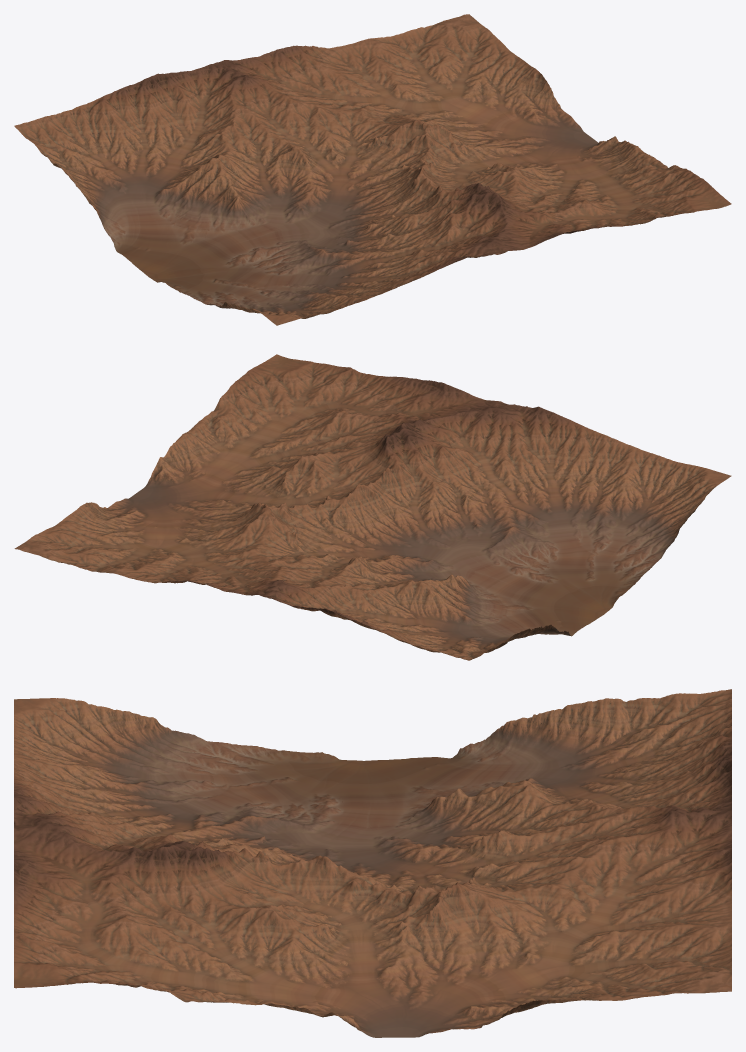
The model's file is mars_terrain.glb.
The picture shows the model from 3 angles, top to bottom: view 1: azimuth 30°, elevation 25°; view 2: azimuth 150°, elevation 25°; view 3: azimuth 270°, elevation 25°; orthographic projection. The views are drawn at different scales.
Visible parts, largest first — view 1: Plane; view 2: Plane; view 3: Plane.
Boxes of the visible parts, <box> form: Plane: <box>14,14,731,325</box>; Plane: <box>14,354,731,660</box>; Plane: <box>14,689,731,1037</box>.
Bounding box in the file's own units: 1.99 × 0.2964 × 1.99.
1 material, 1 textured.
